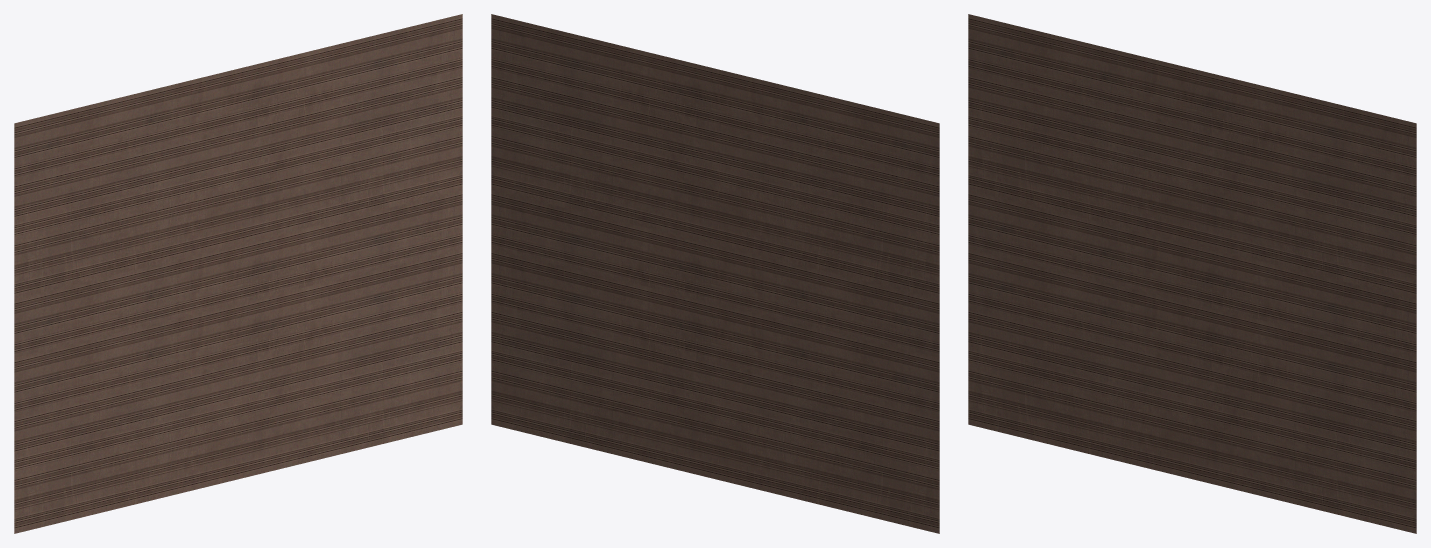
The model's file is House_03_Wall_03.fbx.
3 views of the same model, side by side, from view 1: azimuth 30°, elevation 25°; view 2: azimuth 150°, elevation 25°; view 3: azimuth 330°, elevation 25° (orthographic).
Parts seen in each view (by area): view 1: House_03_Wall_03; view 2: House_03_Wall_03; view 3: House_03_Wall_03.
Boxes of the visible parts, x1,y1,x2,y2 form: House_03_Wall_03: (14, 14, 462, 533); House_03_Wall_03: (491, 14, 939, 533); House_03_Wall_03: (968, 14, 1416, 533).
Size of the model in its own units: 200 by 175 by 0.
